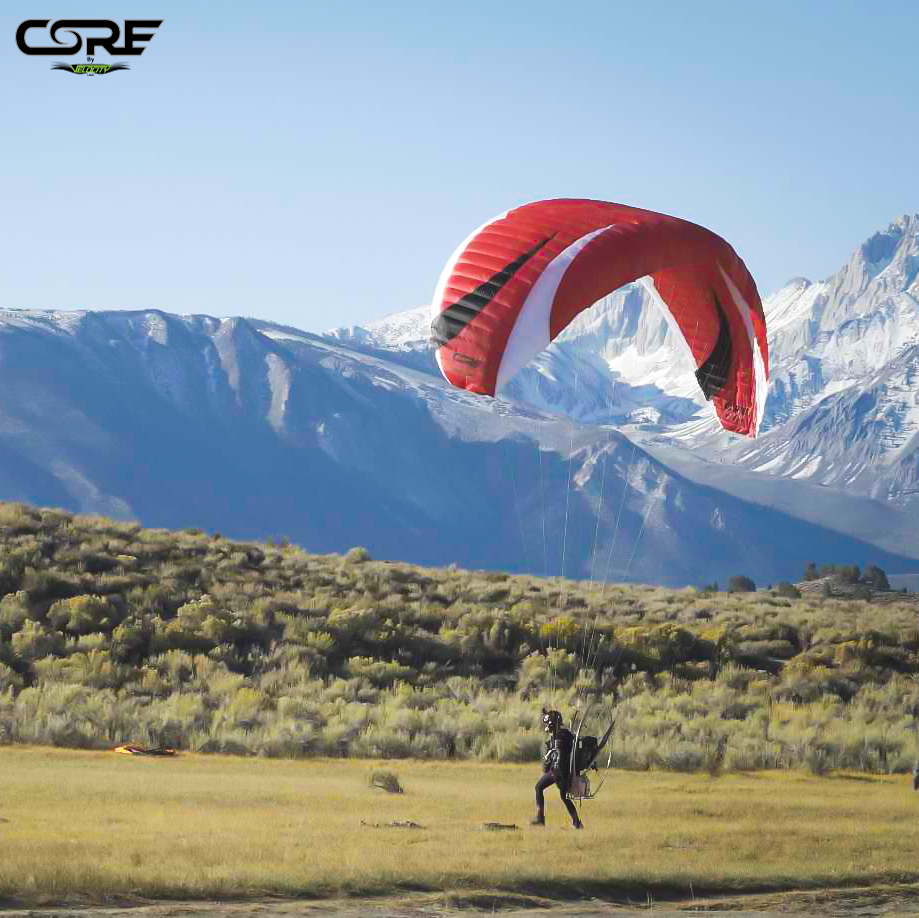Paraglider: (411, 181, 811, 460)
